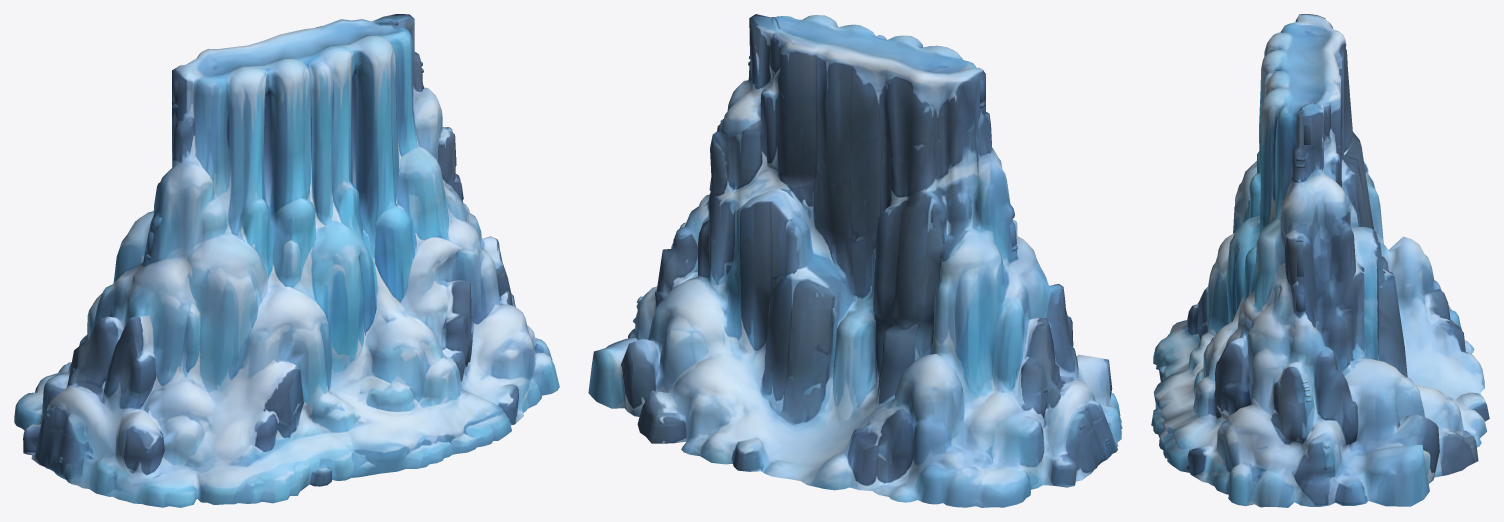
File: SM_Tripo_FrostIcefallBase.glb
3 renders of one model, left to right at view 1: azimuth 30°, elevation 25°; view 2: azimuth 150°, elevation 25°; view 3: azimuth 270°, elevation 25°, orthographic. The views are drawn at different scales.
Visible parts, largest first — view 1: SM_Tripo_FrostIcefallBase_LOD0; view 2: SM_Tripo_FrostIcefallBase_LOD0; view 3: SM_Tripo_FrostIcefallBase_LOD0.
Part boxes in pixels (box(x1,y1,x2,y2)): SM_Tripo_FrostIcefallBase_LOD0: box(14, 14, 559, 507); SM_Tripo_FrostIcefallBase_LOD0: box(588, 14, 1122, 507); SM_Tripo_FrostIcefallBase_LOD0: box(1151, 14, 1489, 507).
Size of what is drawn, in the model's own units: 16.17 by 12 by 10.74.
1 material, 1 textured.
